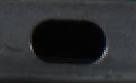holes: (29, 17, 108, 65)
